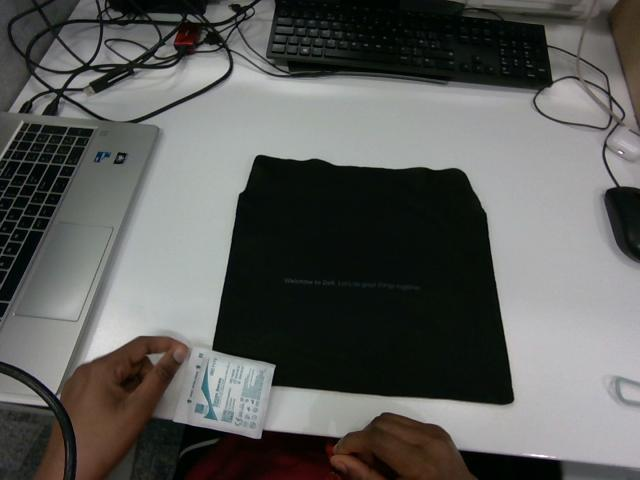gauze: (173, 348, 274, 438)
